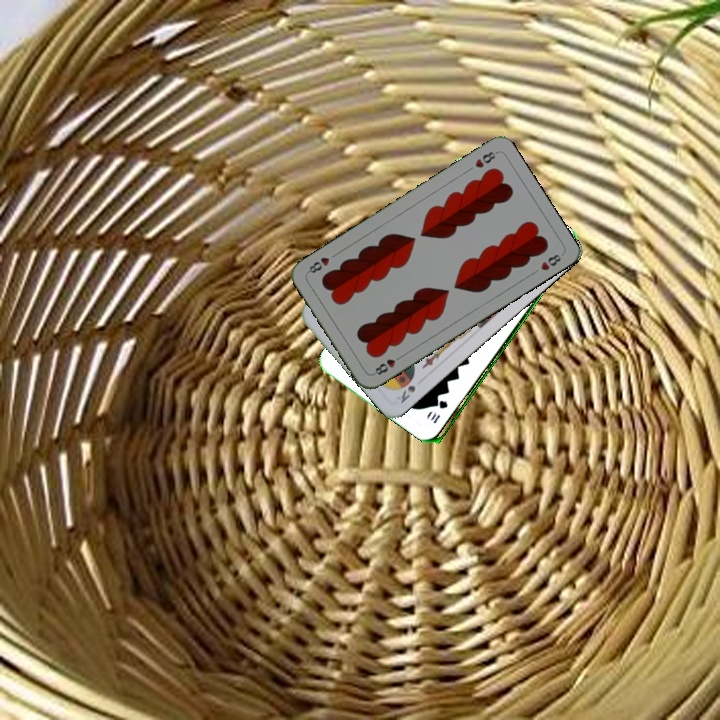G10: (426, 397, 451, 426)
H8: (369, 351, 405, 378), (471, 148, 500, 170)
SK: (392, 381, 418, 406)
